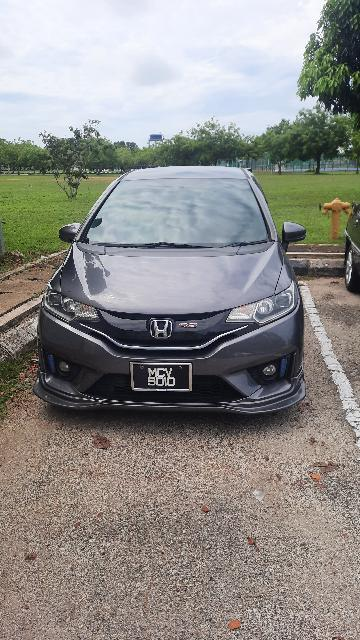License_Plate: (129, 361, 198, 394)
car: (27, 156, 329, 428)
